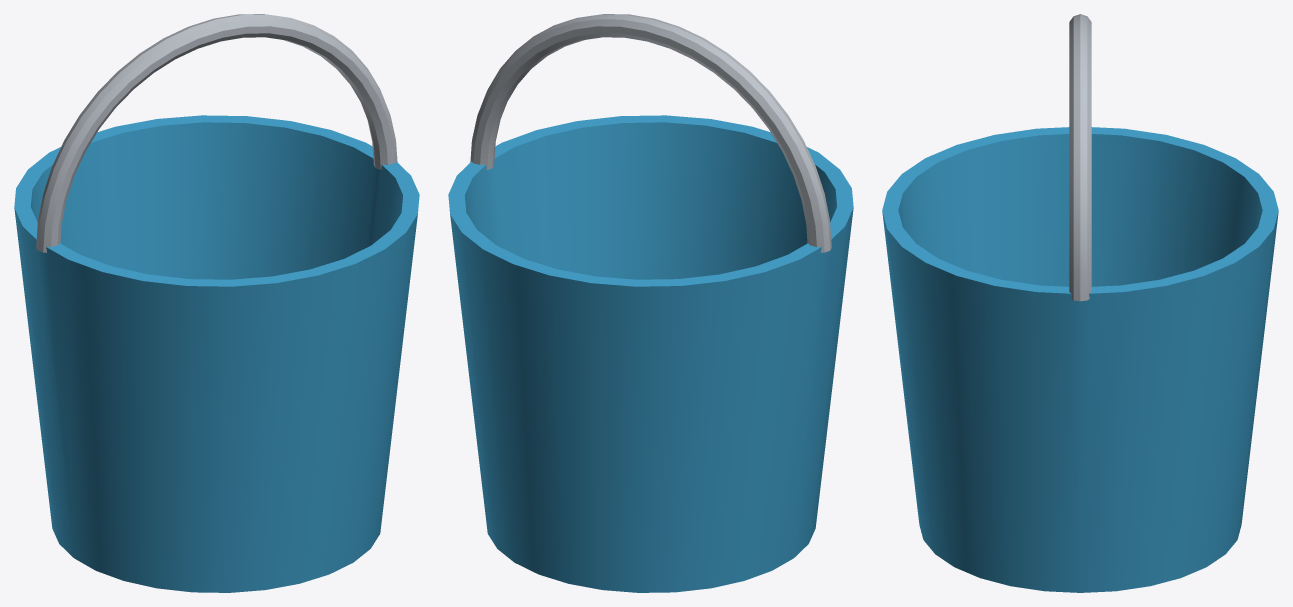
Rendered from bucket.glb.
3 views of the same model, side by side, from view 1: azimuth 30°, elevation 25°; view 2: azimuth 150°, elevation 25°; view 3: azimuth 270°, elevation 25° (orthographic). The views are drawn at different scales.
Parts seen in each view (by area): view 1: bucket; view 2: bucket; view 3: bucket.
Boxes of the visible parts, bbox=[...] form: bucket: bbox=[14, 14, 419, 592]; bucket: bbox=[448, 14, 853, 592]; bucket: bbox=[882, 14, 1278, 592].
Size of the model in its own units: 0.067 by 0.09 by 0.0658.
